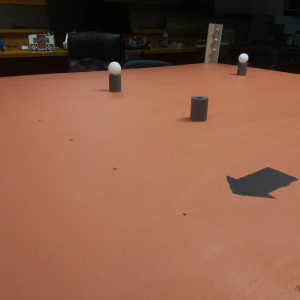corner: (204, 21, 224, 64)
obstacle: (107, 60, 124, 93), (190, 94, 209, 123), (236, 53, 251, 77)
start: (223, 163, 299, 202)
